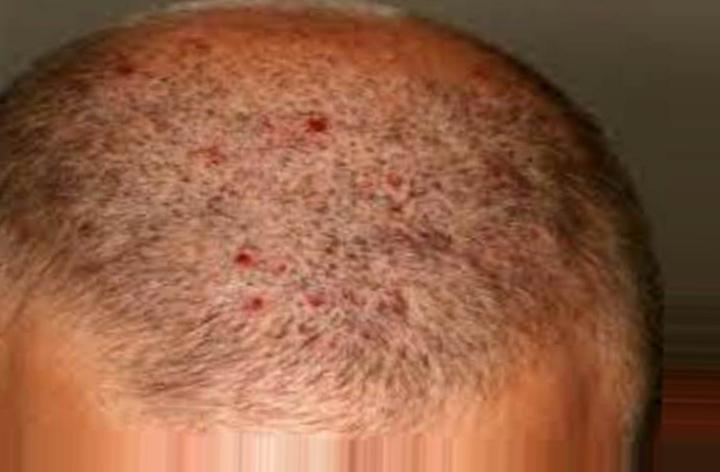Folliculitis: (299, 287, 345, 315), (299, 109, 336, 142), (383, 169, 418, 197), (223, 242, 252, 272), (243, 294, 273, 321), (112, 62, 139, 84)
